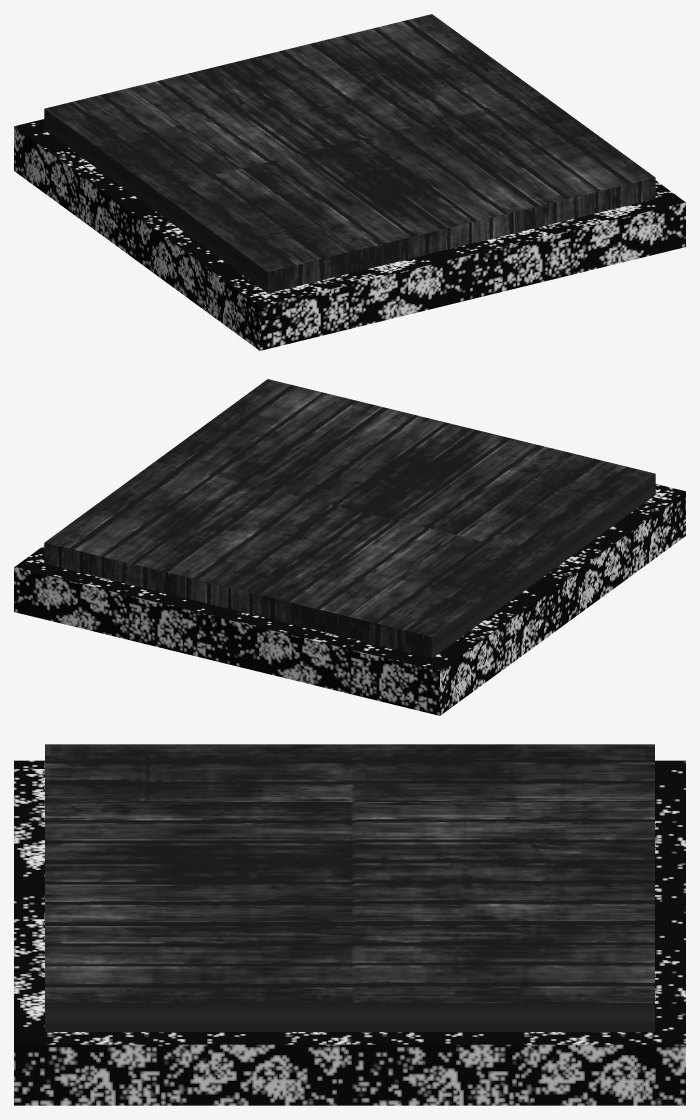
Rendered from Botao.fbx.
The picture shows the model from 3 angles, top to bottom: view 1: azimuth 30°, elevation 25°; view 2: azimuth 150°, elevation 25°; view 3: azimuth 270°, elevation 25°; orthographic projection. The views are drawn at different scales.
Visible parts, largest first — view 1: Botão, Base; view 2: Botão, Base; view 3: Botão, Base.
Boxes of the visible parts, box(x1,y1,x2,y2) form: Botão: box(44, 14, 655, 293); Base: box(14, 119, 685, 350); Botão: box(44, 379, 655, 658); Base: box(14, 484, 685, 715); Botão: box(45, 744, 654, 1031); Base: box(14, 760, 685, 1105).
Size of the model in its own units: 200 by 29.55 by 200.
